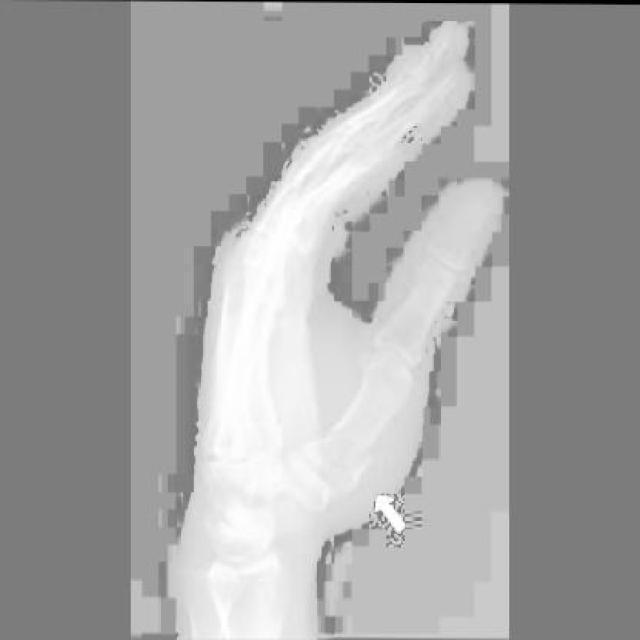Fracture: (314, 419, 379, 481)
